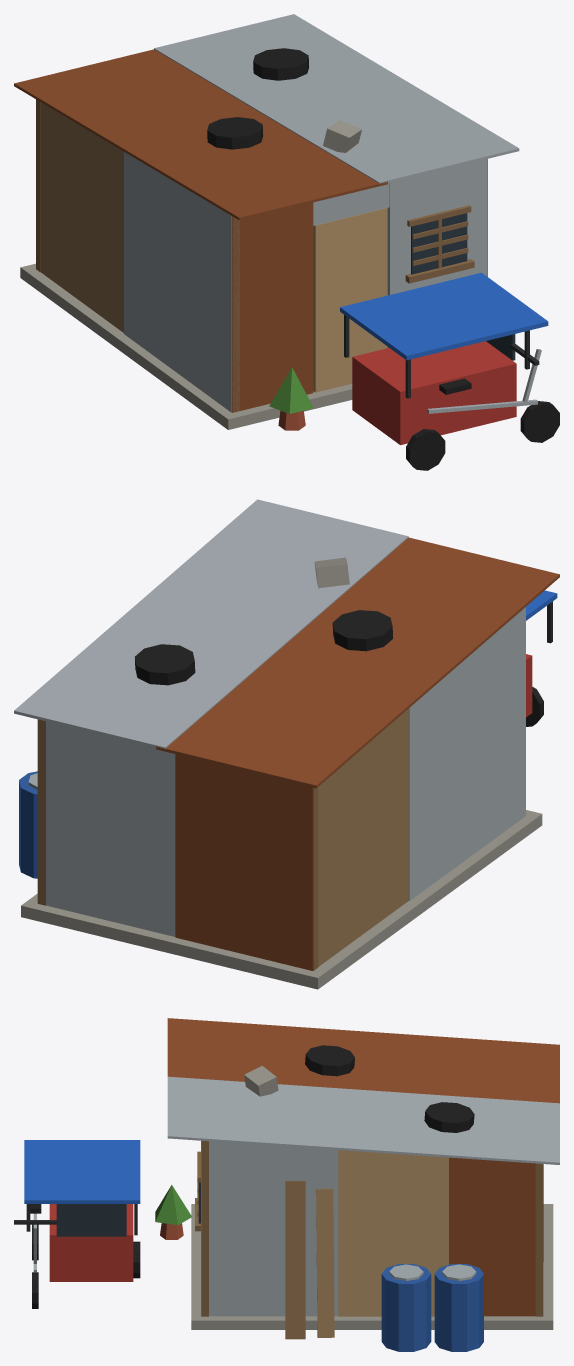
Rendered from BAY_I_TinShack_H.glb.
3 renders of one model, top to bottom at view 1: azimuth 30°, elevation 25°; view 2: azimuth 150°, elevation 25°; view 3: azimuth 270°, elevation 25°, orthographic. The views are drawn at different scales.
Parts seen in each view (by area): view 1: BAY_I_TinShack_H; view 2: BAY_I_TinShack_H; view 3: BAY_I_TinShack_H.
Part boxes in pixels (x1=…): BAY_I_TinShack_H: x1=14, y1=14, x2=559, y2=470; BAY_I_TinShack_H: x1=14, y1=499, x2=559, y2=989; BAY_I_TinShack_H: x1=14, y1=1018, x2=559, y2=1351.
Size of the model in its own units: 3.88 by 2.68 by 6.4.
Materials: 1 (1 with a texture image).
